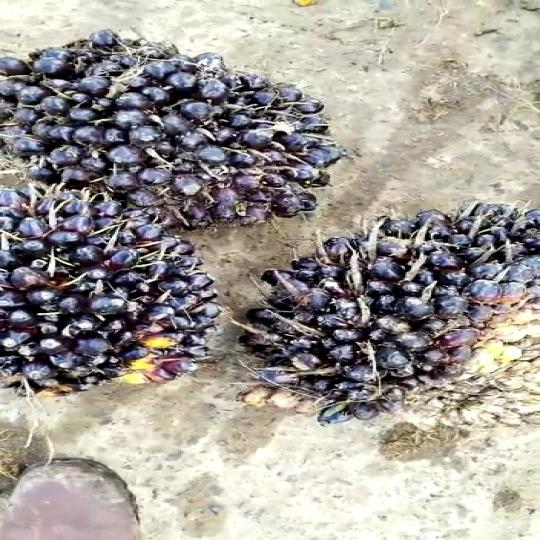mentah: (216, 186, 540, 435), (0, 15, 318, 227), (0, 184, 212, 429)
